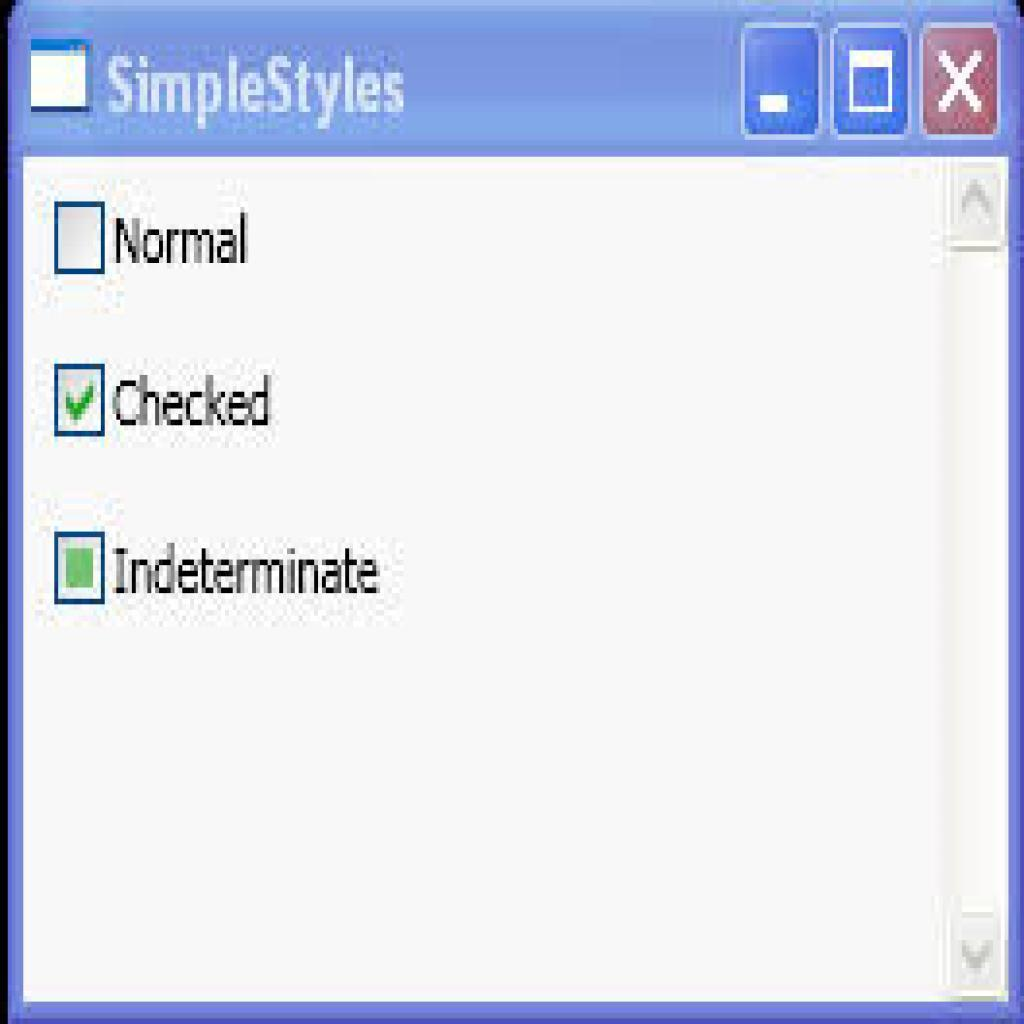checkbox: (51, 528, 109, 613), (52, 198, 109, 279), (50, 363, 109, 439)
